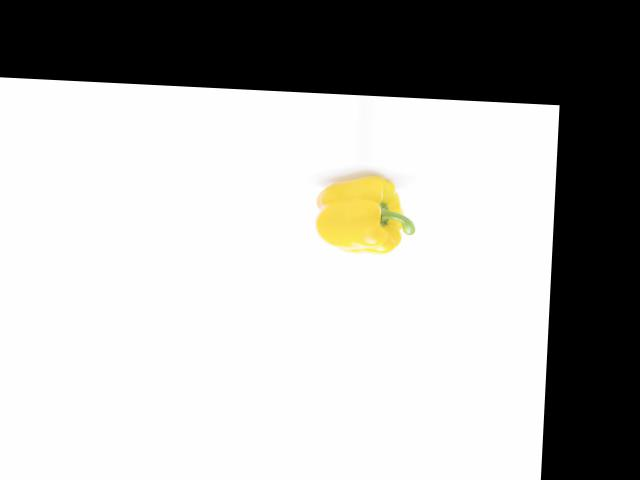bell_pepper: (310, 173, 426, 260)
